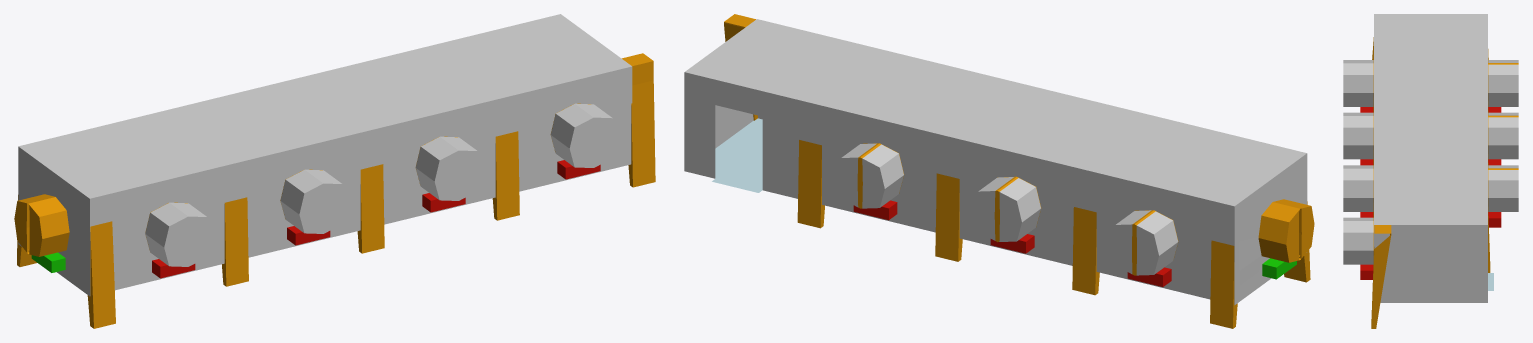
Rendered from pods.fbx.
3 views of the same model, side by side, from view 1: azimuth 30°, elevation 25°; view 2: azimuth 150°, elevation 25°; view 3: azimuth 270°, elevation 25° (orthographic). The views are drawn at different scales.
Visible parts, largest first — view 1: Walls, Pods, Vents, UsePod; view 2: Walls, Pods, Vents, UsePod; view 3: Walls, Pods, Vents.
Part boxes in pixels (box(x1,y1,x2,y2)): Walls: box(18, 14, 632, 296); Pods: box(31, 103, 617, 278); Vents: box(17, 53, 655, 328); UsePod: box(14, 194, 69, 256); Walls: box(684, 19, 1307, 305); Pods: box(836, 143, 1296, 286); Vents: box(724, 14, 1310, 328); UsePod: box(1258, 199, 1314, 262); Walls: box(1374, 14, 1493, 302); Pods: box(1343, 60, 1518, 279); Vents: box(1371, 37, 1490, 328).
Bounding box in the file's own units: 3614 × 744 × 1161.
